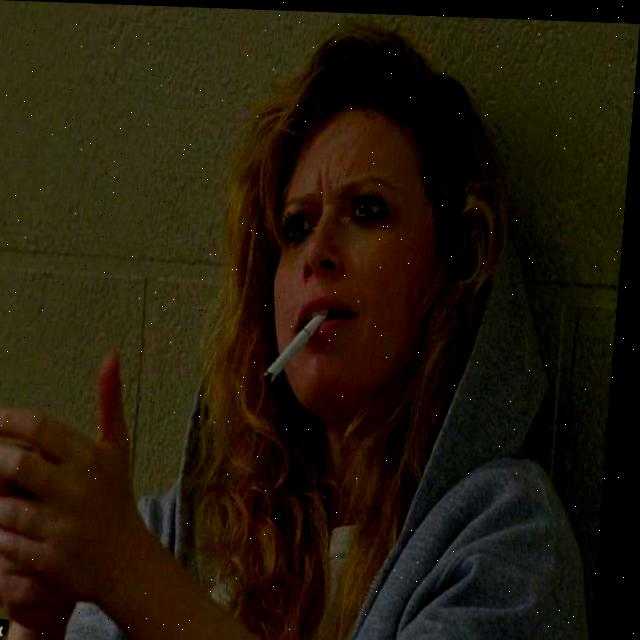cigarette: (269, 308, 330, 381)
